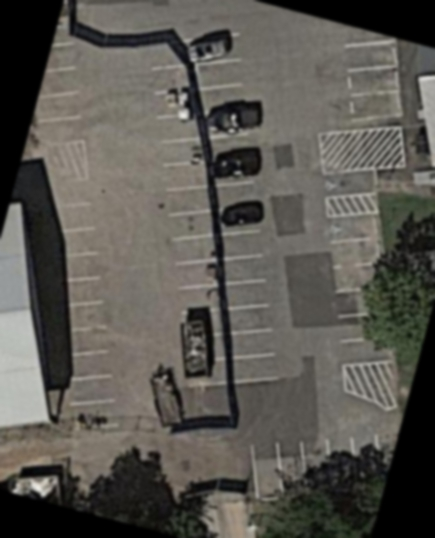parkingspot: (146, 31, 282, 388), (37, 198, 122, 433), (151, 113, 222, 317), (323, 211, 395, 369), (247, 431, 386, 502), (337, 23, 404, 126), (33, 39, 87, 148), (317, 167, 379, 201)
